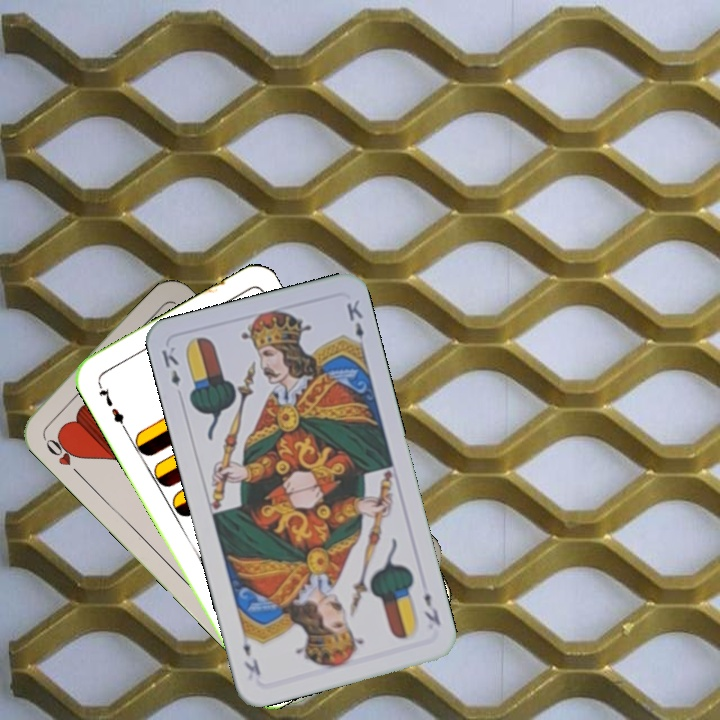E7: (94, 378, 129, 433)
EK: (157, 342, 183, 389), (420, 588, 444, 628)
HO: (38, 430, 84, 478)
